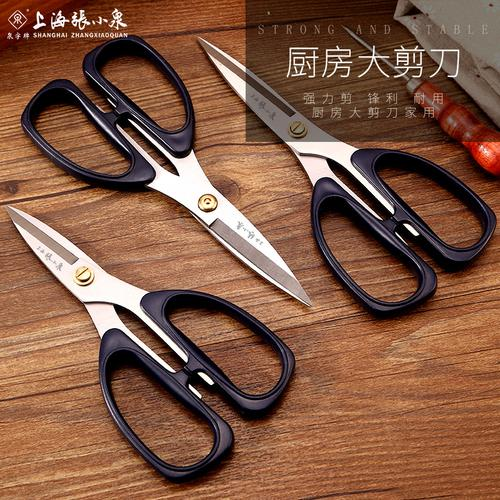scissor: (191, 35, 498, 319), (1, 203, 297, 482), (19, 30, 313, 307)
